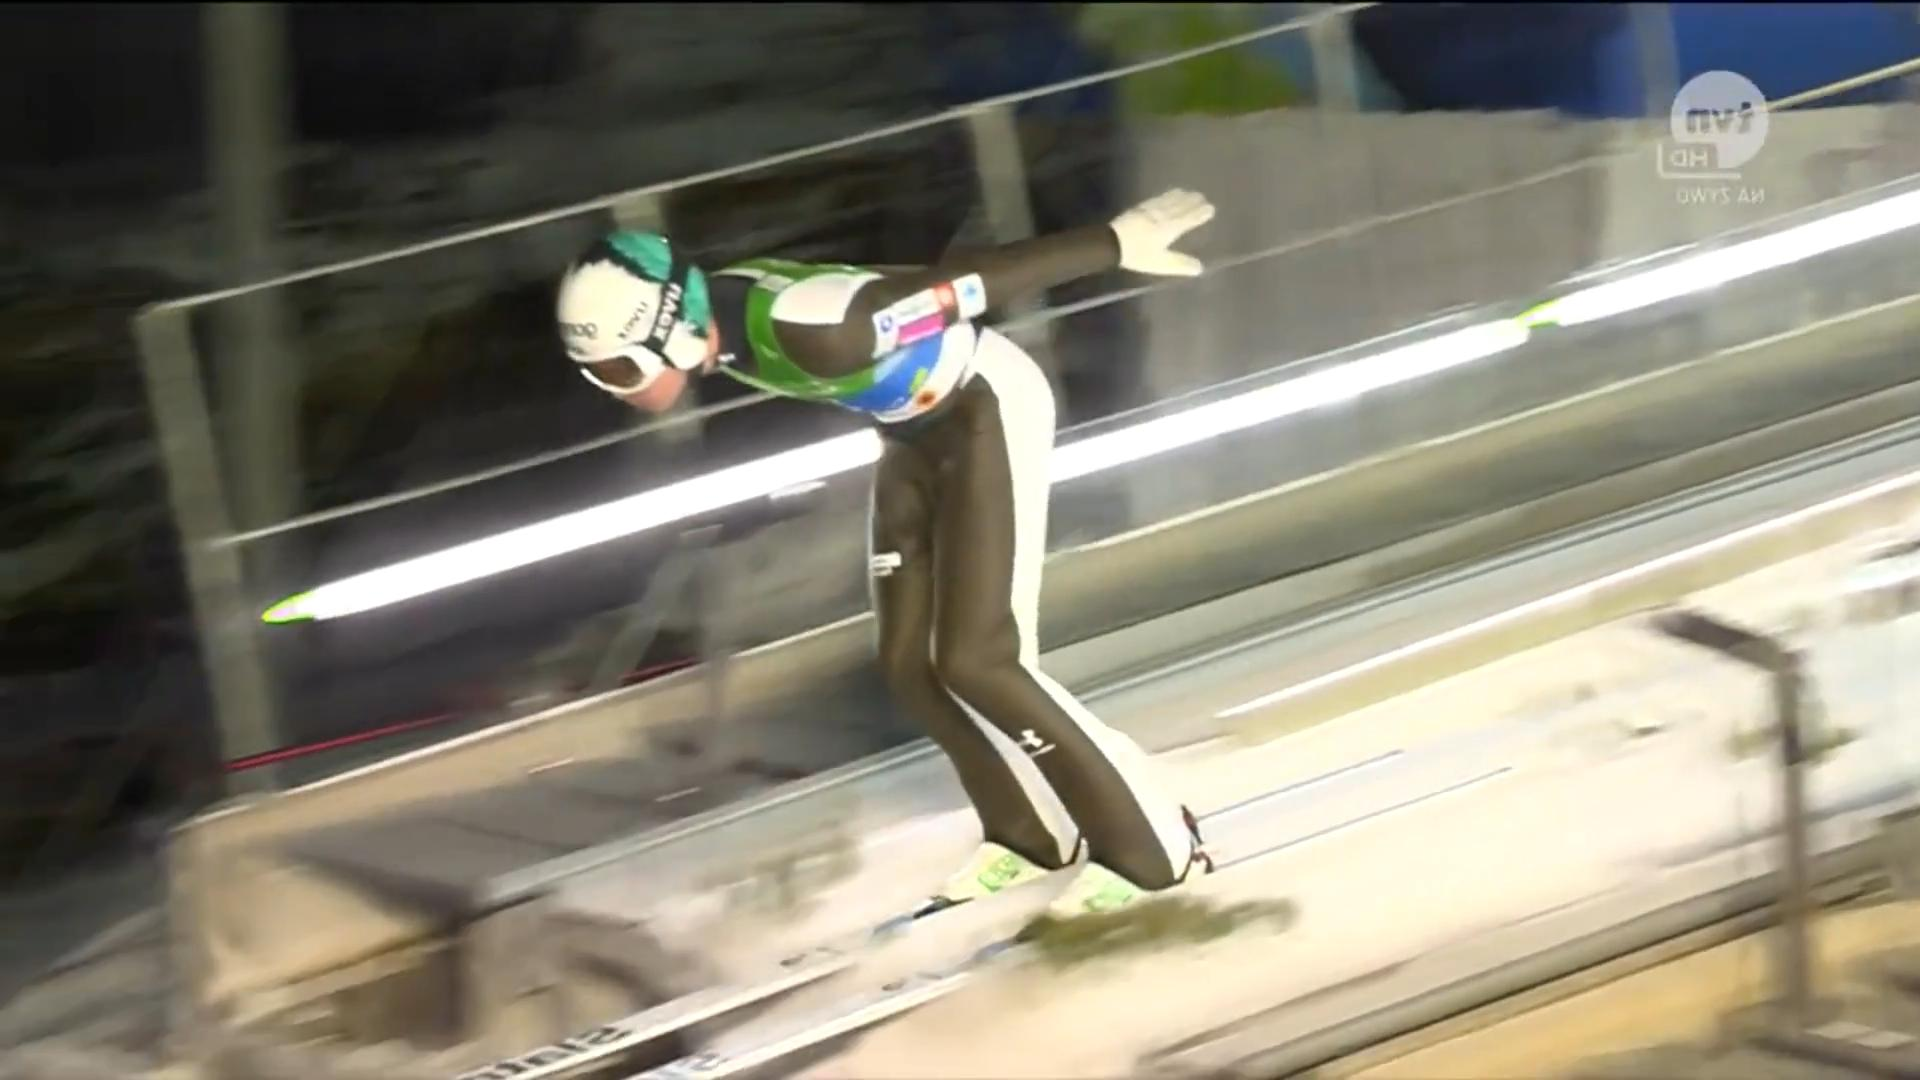prog: (278, 841, 649, 972)
